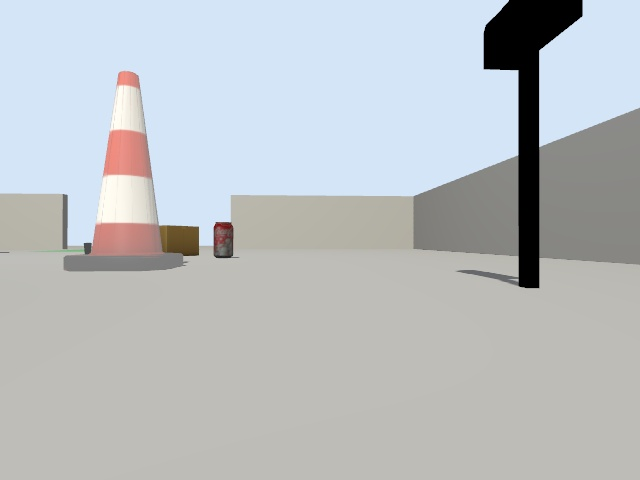boite_lettres: (484, 0, 582, 287)
canette: (213, 222, 233, 257)
carton: (159, 225, 198, 255)
cone_chantier: (64, 71, 182, 270)
gobelet: (84, 243, 91, 254)
